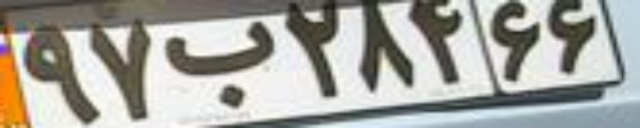2: (283, 1, 344, 97)
4: (405, 0, 462, 85)
6: (89, 17, 154, 120), (486, 0, 540, 80), (544, 0, 597, 74)
8: (350, 1, 414, 90)
9: (22, 22, 98, 124)
be: (161, 21, 275, 108)
